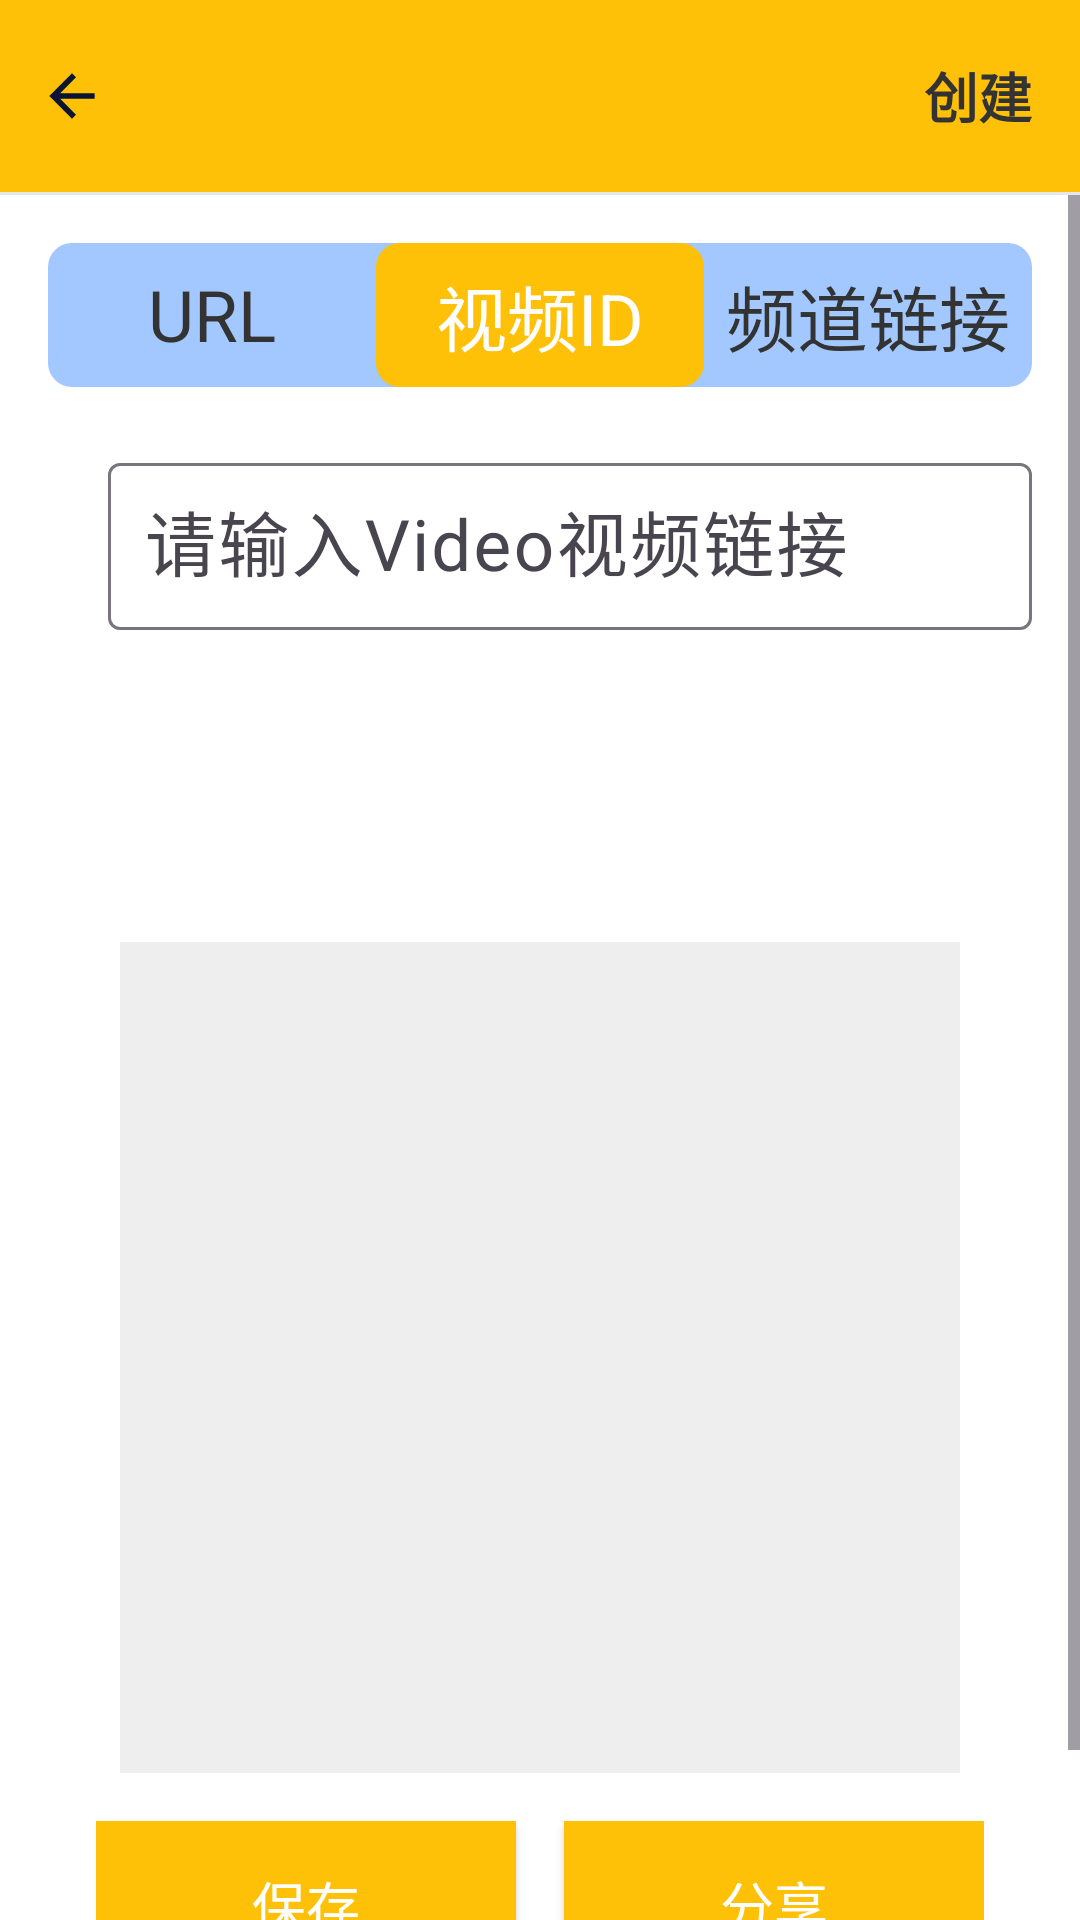

Icons on this 1080px×1920px Android screen, each with its box as BBox(x1, y1, x2, y2):
arrow back: BBox(49, 73, 95, 119)
